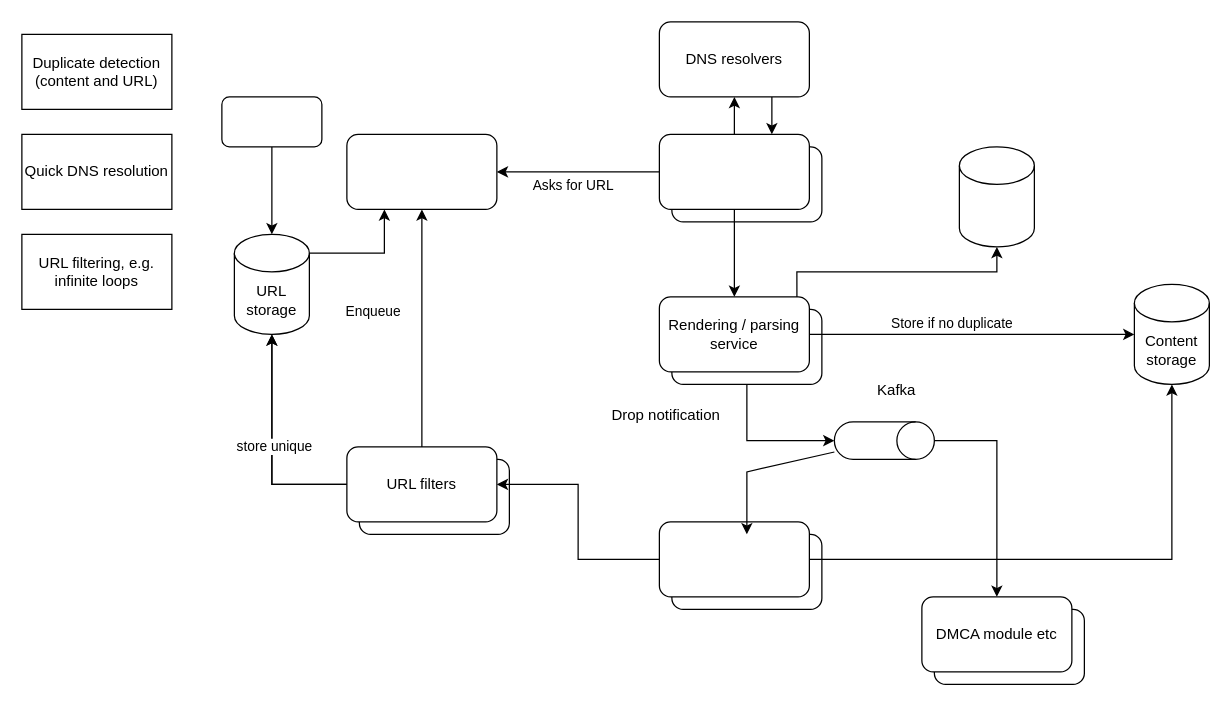
Image size: 1231x706. Some labels were removed from this diagram. The shapes that lost their labels are listed below. From the top down, each one's box as (x1, y1, x2, y2) in pixels, then its label:
(221, 96, 322, 147): Seed URLs
(346, 133, 497, 209): URL dispatcher / frontier
(658, 133, 809, 209): URL fetching worker
(958, 146, 1034, 247): Inverted index
(658, 521, 809, 597): URL parser
